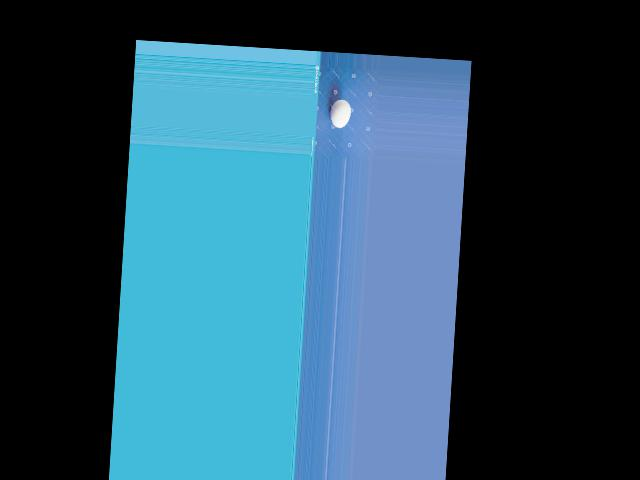egg: (329, 99, 351, 129)
